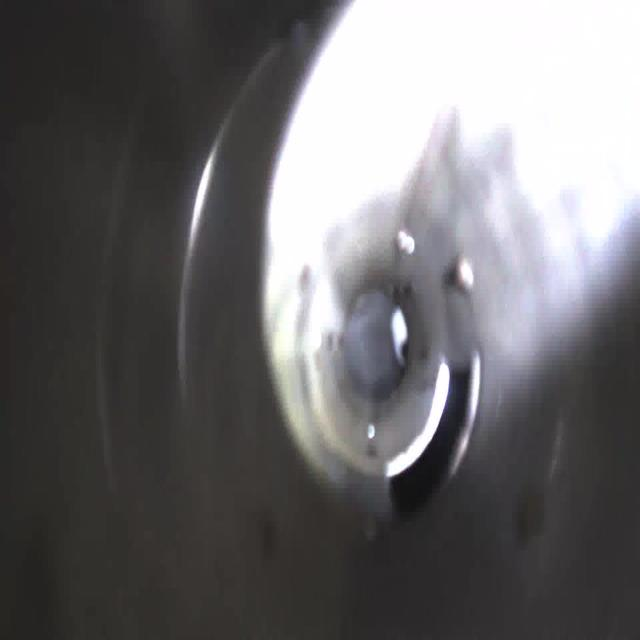hole: (382, 339, 488, 529)
